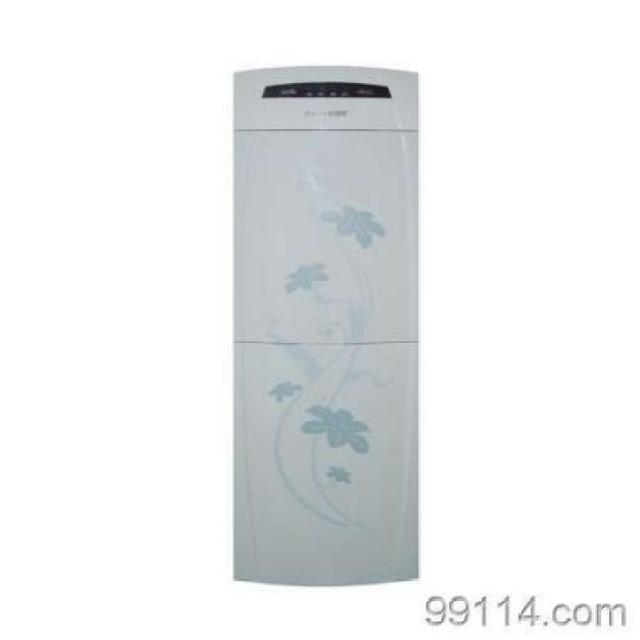cooler: (230, 60, 426, 590)
